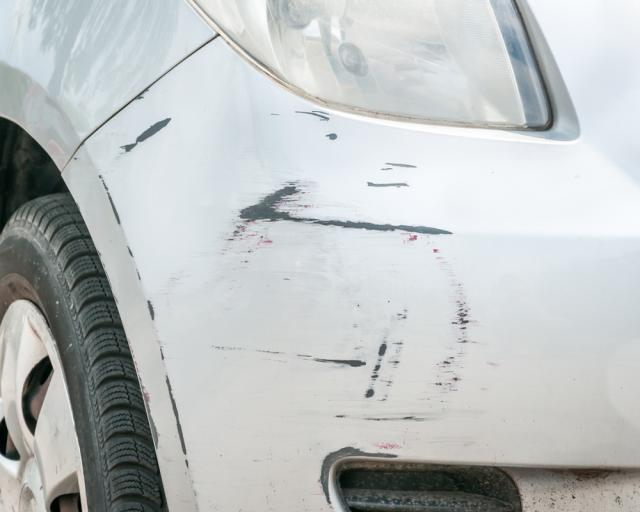scratch: (179, 107, 474, 509), (97, 115, 189, 471)
